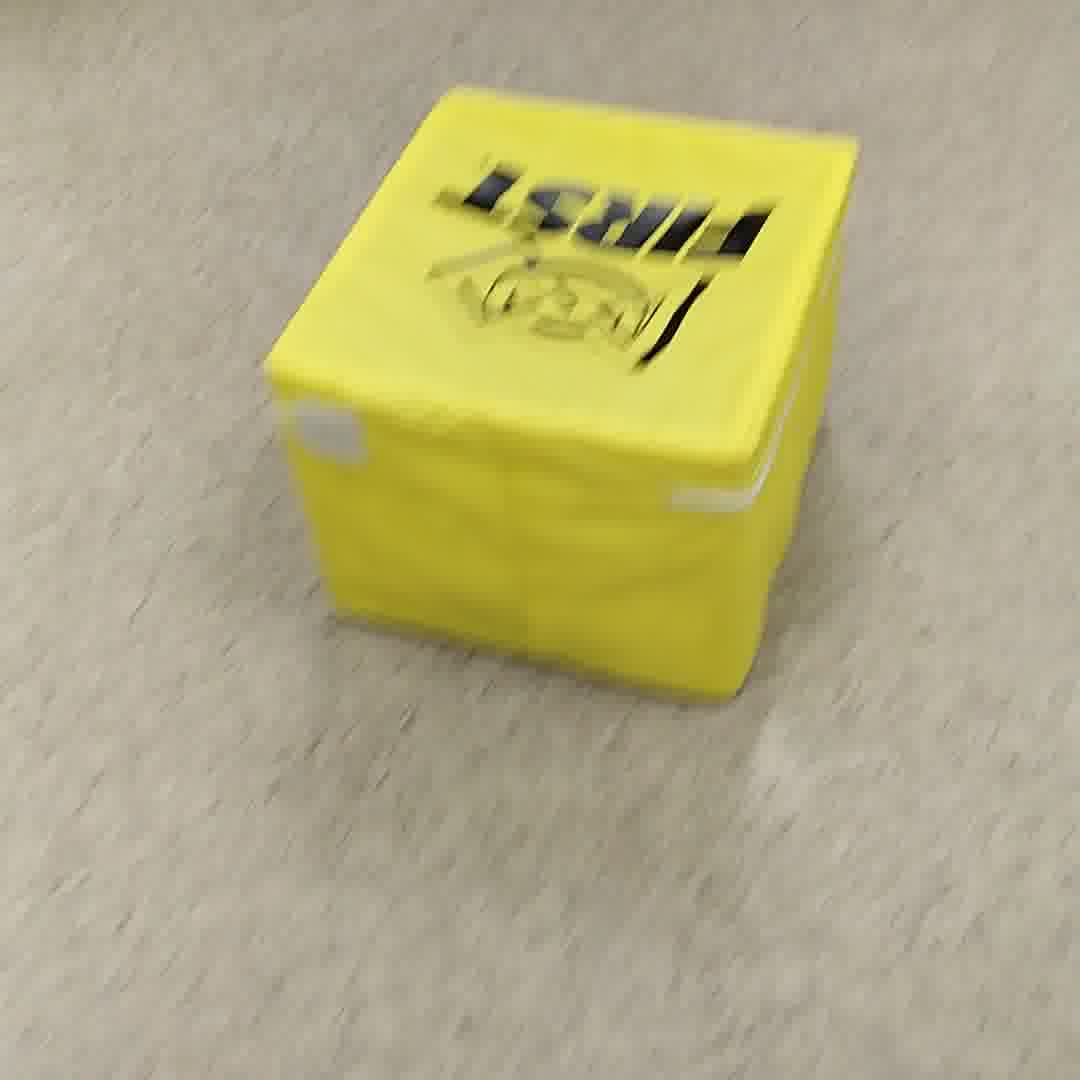box: (252, 64, 856, 725)
